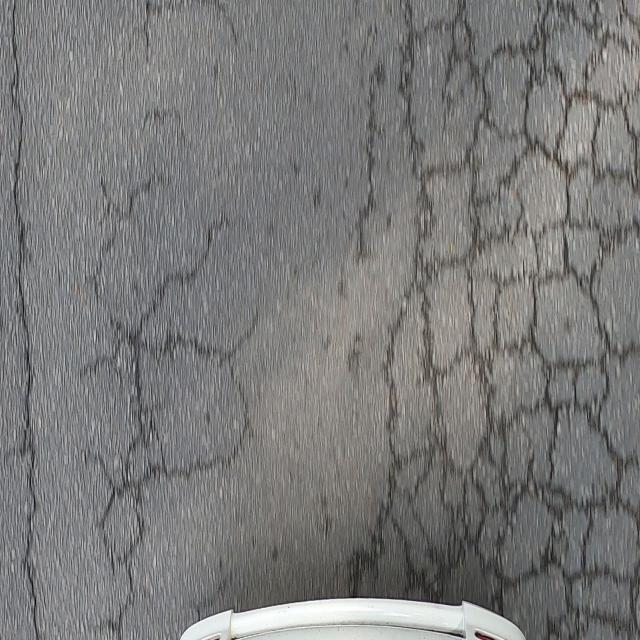Retak-Buaya: (356, 3, 640, 640), (77, 171, 255, 554)
Retak-Memanjang: (8, 9, 42, 640)
